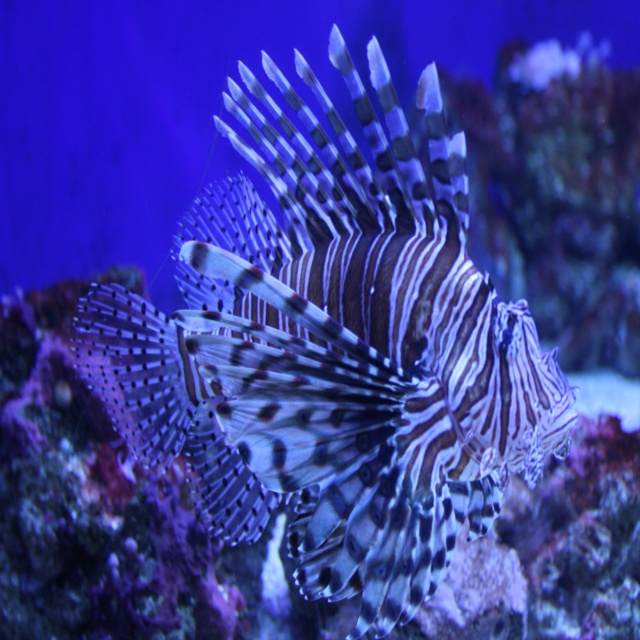Fish: (70, 24, 581, 640)
